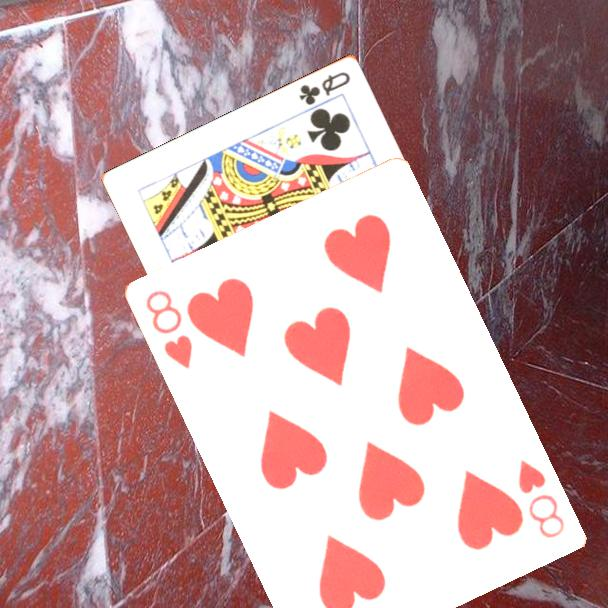c12: (296, 68, 353, 108)
h08: (515, 456, 569, 542), (142, 286, 196, 372)
